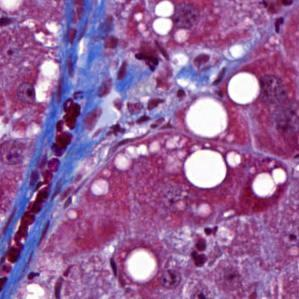inflammation: (120, 93, 168, 126), (185, 233, 216, 270), (132, 45, 162, 74)
